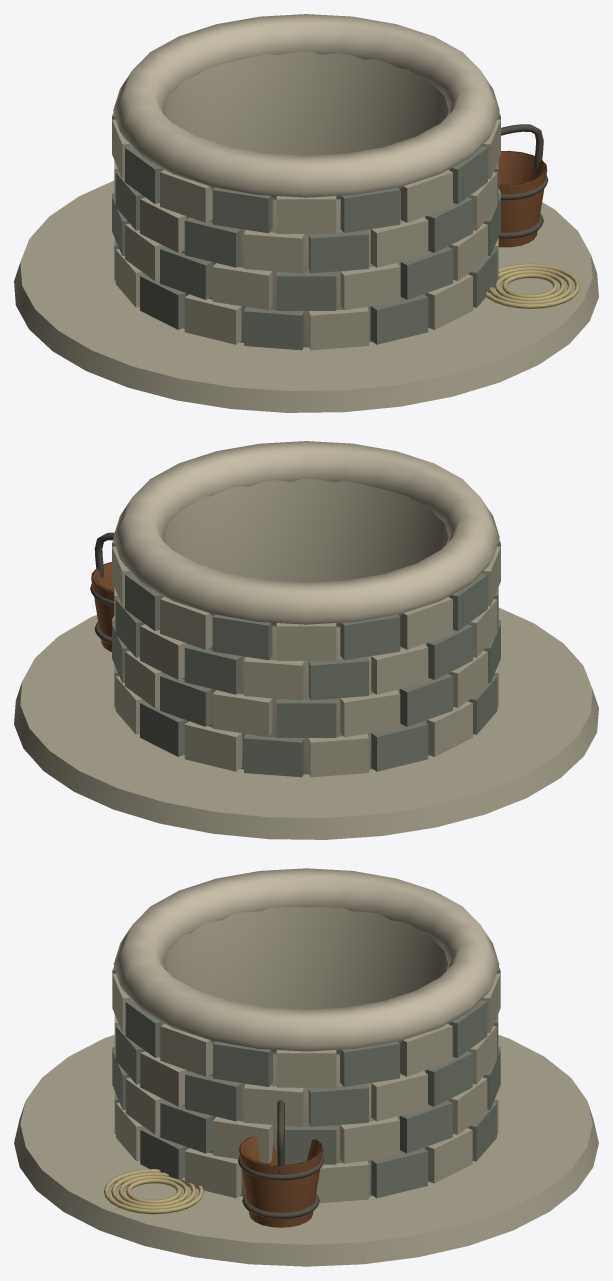
The model's file is LV_GIENG_NUOC_01.glb.
3 views of the same model, one above another, from view 1: azimuth 30°, elevation 25°; view 2: azimuth 150°, elevation 25°; view 3: azimuth 270°, elevation 25° (orthographic).
Visible parts, largest first — view 1: LV_GIENG_NUOC_01-surface-a8a28c, LV_GIENG_NUOC_01-surface-bfb6a0, LV_GIENG_NUOC_01-surface-797e70, LV_GIENG_NUOC_01-surface-825331, LV_GIENG_NUOC_01-surface-b5a574, LV_GIENG_NUOC_01-surface-514b40; view 2: LV_GIENG_NUOC_01-surface-a8a28c, LV_GIENG_NUOC_01-surface-bfb6a0, LV_GIENG_NUOC_01-surface-797e70, LV_GIENG_NUOC_01-surface-825331, LV_GIENG_NUOC_01-surface-514b40; view 3: LV_GIENG_NUOC_01-surface-a8a28c, LV_GIENG_NUOC_01-surface-bfb6a0, LV_GIENG_NUOC_01-surface-797e70, LV_GIENG_NUOC_01-surface-825331, LV_GIENG_NUOC_01-surface-b5a574, LV_GIENG_NUOC_01-surface-514b40.
Part boxes in pixels (<box>): LV_GIENG_NUOC_01-surface-a8a28c: <box>14,51,598,412</box>; LV_GIENG_NUOC_01-surface-bfb6a0: <box>113,14,499,200</box>; LV_GIENG_NUOC_01-surface-797e70: <box>112,112,500,350</box>; LV_GIENG_NUOC_01-surface-825331: <box>498,150,547,247</box>; LV_GIENG_NUOC_01-surface-b5a574: <box>485,263,580,308</box>; LV_GIENG_NUOC_01-surface-514b40: <box>498,124,548,238</box>; LV_GIENG_NUOC_01-surface-a8a28c: <box>14,478,598,839</box>; LV_GIENG_NUOC_01-surface-bfb6a0: <box>113,441,499,627</box>; LV_GIENG_NUOC_01-surface-797e70: <box>112,539,500,777</box>; LV_GIENG_NUOC_01-surface-825331: <box>91,562,114,651</box>; LV_GIENG_NUOC_01-surface-514b40: <box>90,532,114,643</box>; LV_GIENG_NUOC_01-surface-a8a28c: <box>14,907,598,1266</box>; LV_GIENG_NUOC_01-surface-bfb6a0: <box>113,868,499,1054</box>; LV_GIENG_NUOC_01-surface-797e70: <box>112,966,500,1198</box>; LV_GIENG_NUOC_01-surface-825331: <box>238,1136,323,1227</box>; LV_GIENG_NUOC_01-surface-b5a574: <box>103,1169,203,1214</box>; LV_GIENG_NUOC_01-surface-514b40: <box>238,1100,324,1219</box>.
Bounding box in the file's own units: 2.76 × 1.03 × 2.76.
